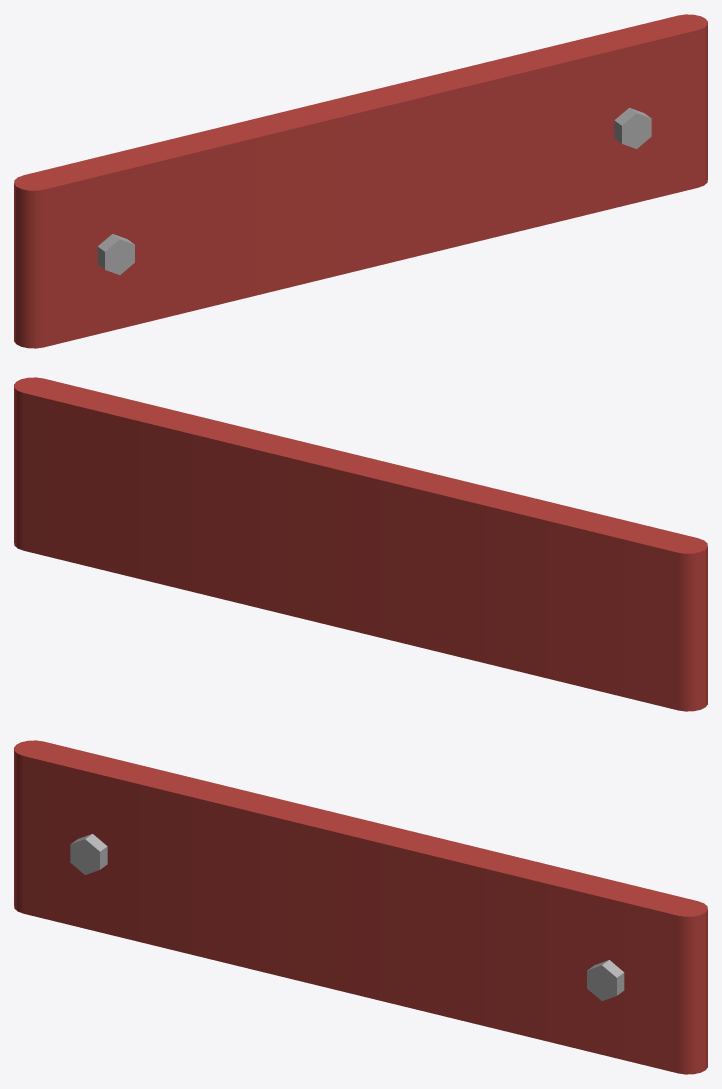
The model's file is lamp_bracket.glb.
3 views of the same model, one above another, from view 1: azimuth 30°, elevation 25°; view 2: azimuth 150°, elevation 25°; view 3: azimuth 330°, elevation 25° (orthographic).
Visible parts, largest first — view 1: lod0; view 2: lod0; view 3: lod0.
Part boxes in pixels (bbox=[...]): lod0: bbox=[14, 14, 707, 348]; lod0: bbox=[14, 377, 707, 711]; lod0: bbox=[14, 740, 707, 1074].
Size of what is drawn, in the model's own units: 0.16 by 0.035 by 0.011.
